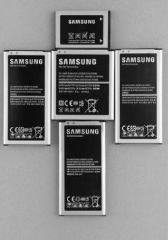electronic: (51, 39, 124, 131), (115, 42, 168, 158), (56, 118, 114, 221), (4, 46, 54, 164), (49, 4, 113, 52)
